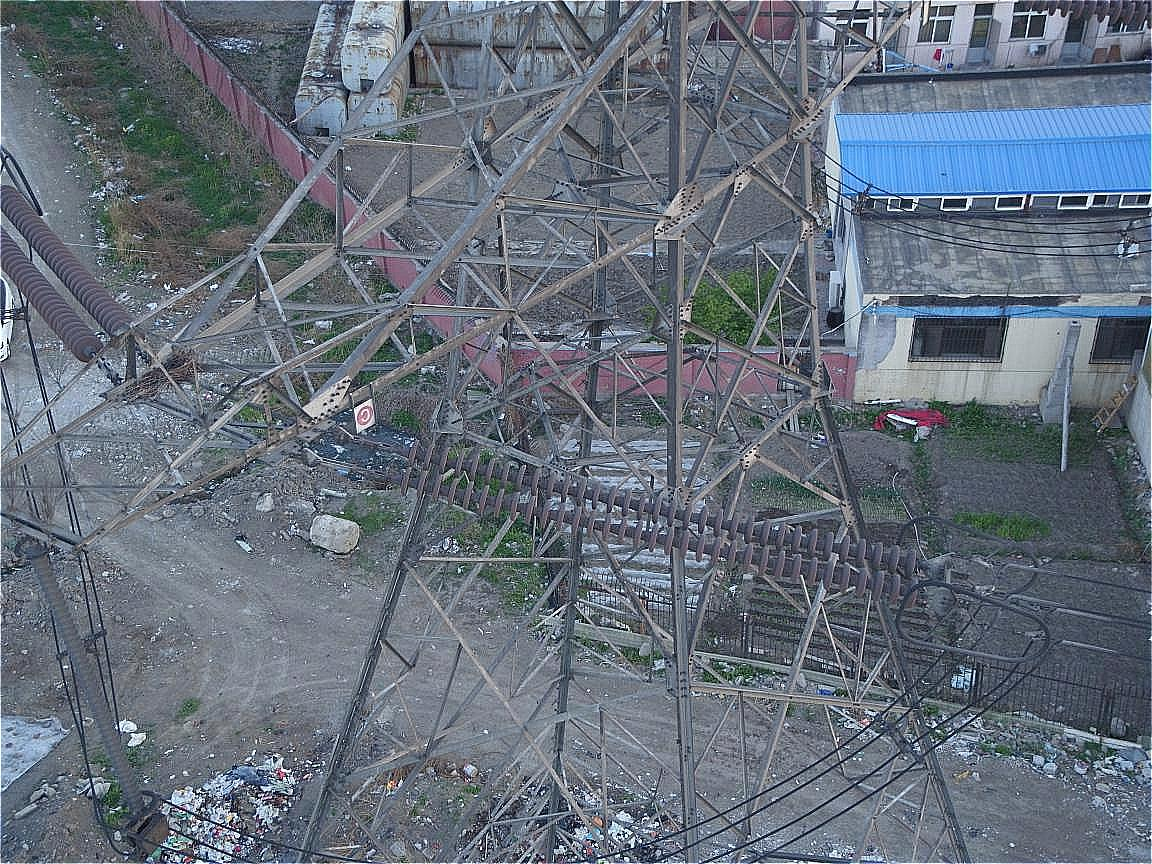insultor1: (401, 439, 922, 608)
